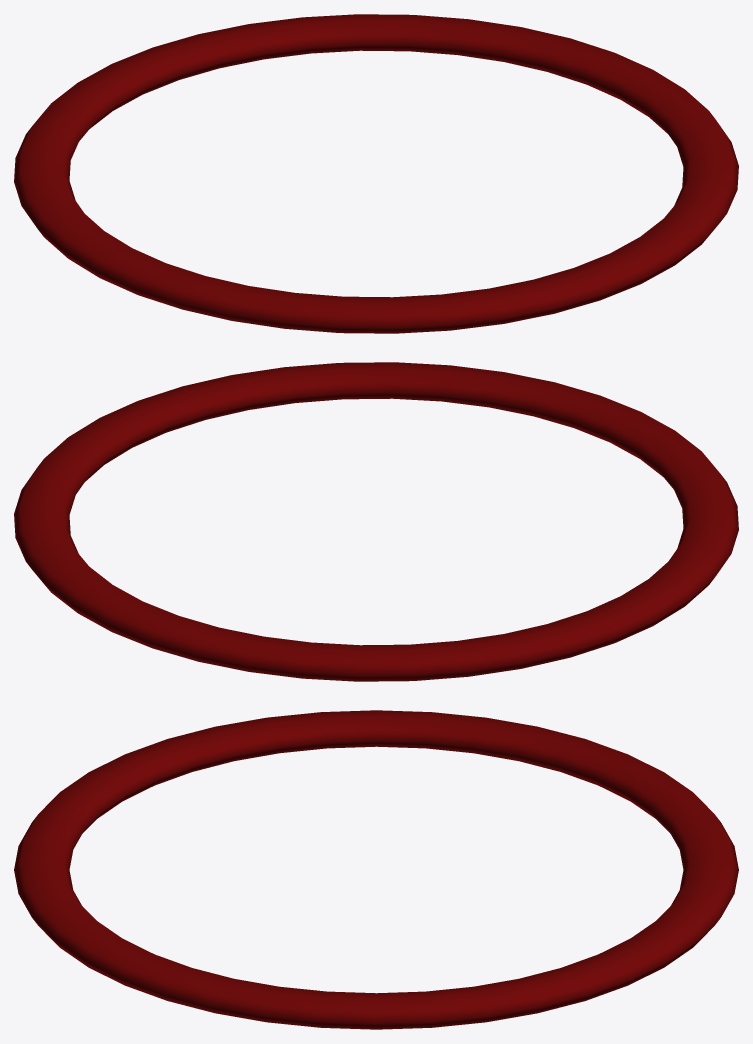
The model's file is ApuntadorRojo.fbx.
3 views of the same model, one above another, from view 1: azimuth 30°, elevation 25°; view 2: azimuth 150°, elevation 25°; view 3: azimuth 270°, elevation 25° (orthographic).
Visible parts, largest first — view 1: pPipe1; view 2: pPipe1; view 3: pPipe1.
Boxes of the visible parts, <box> form: pPipe1: <box>14,14,738,333</box>; pPipe1: <box>14,362,738,681</box>; pPipe1: <box>14,710,738,1029</box>.
Bounding box in the file's own units: 0.2288 × 0.00877 × 0.2288.
